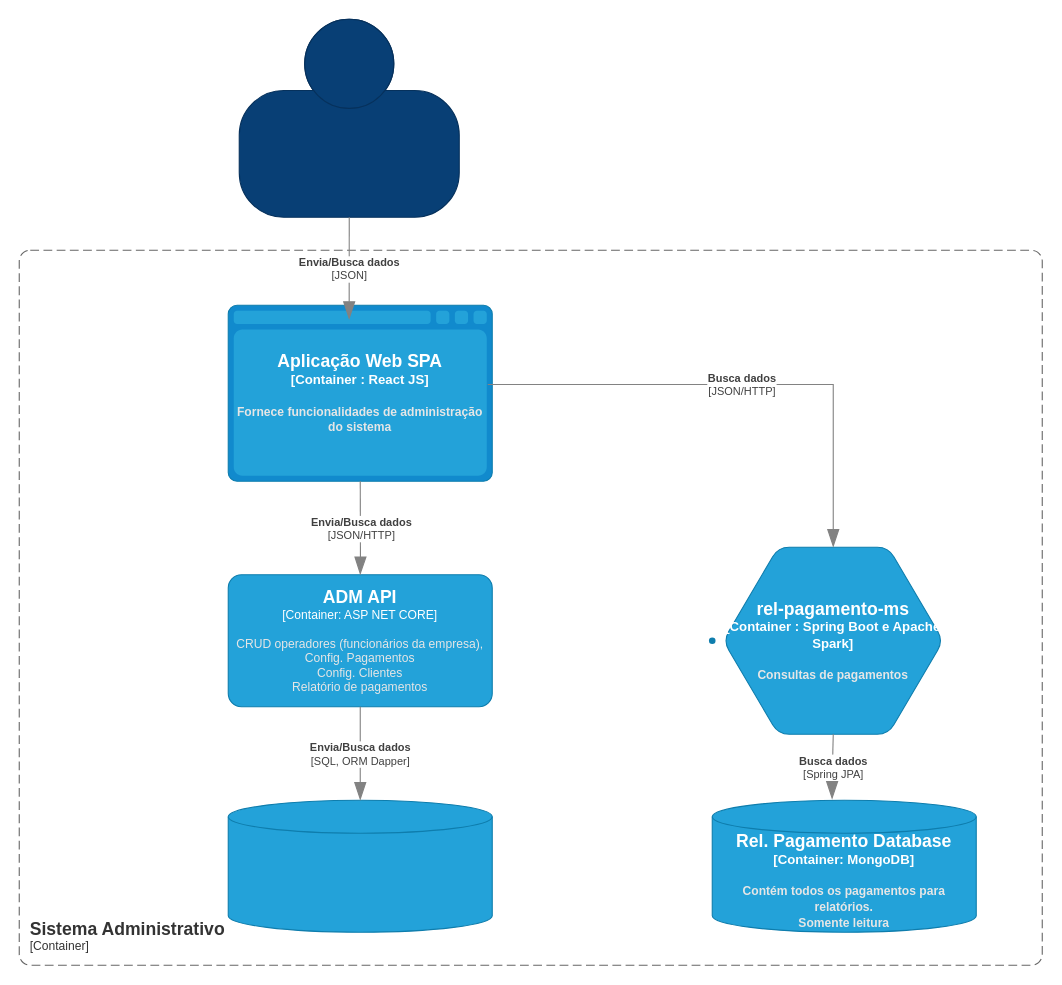
Some shapes in this 1062 by 985 pixel diagram are drawn without their labels. The shapes that lost their labels are listed below. From the top down, each one's centre as x and y in pixels, then its label:
pixel 348 117: Administrador [Person] Administrador do Sistema conectado em uma VPN
pixel 359 865: ADM Database [Container : SQL Server]
